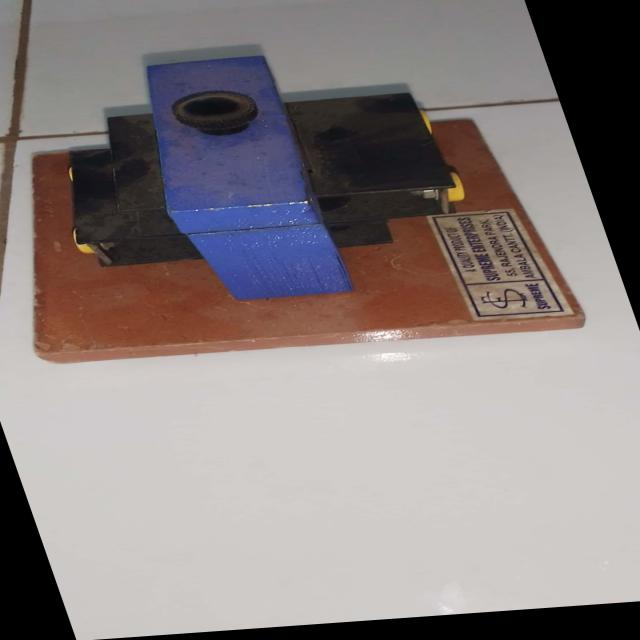Transformer Demo: (0, 22, 632, 387)
